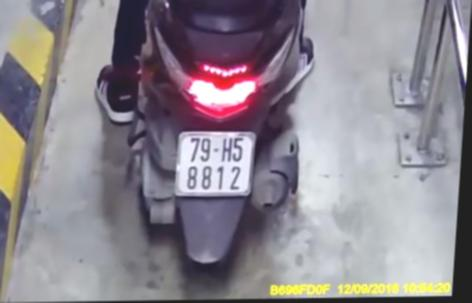License_Plate: (167, 125, 267, 202)
